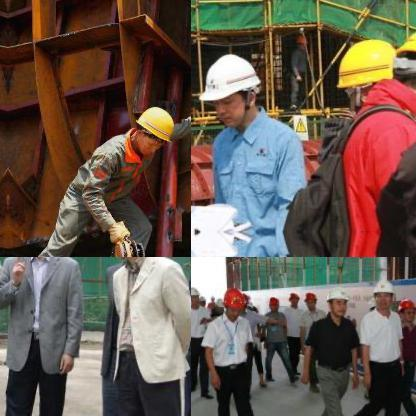Helmet: (198, 50, 262, 124), (337, 38, 401, 106), (126, 100, 174, 160), (393, 16, 415, 117), (323, 283, 351, 317), (370, 275, 394, 309), (222, 284, 246, 316), (395, 295, 415, 328), (302, 288, 318, 308), (266, 294, 280, 310), (191, 283, 201, 303), (294, 32, 306, 48), (286, 290, 298, 304)
